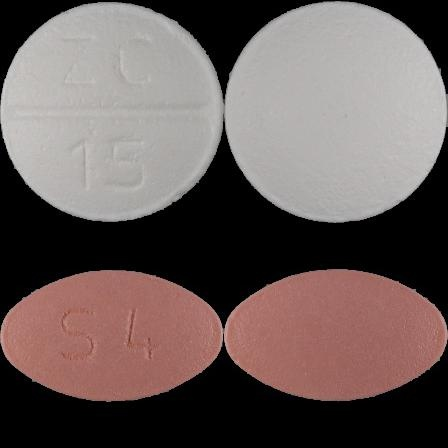63187-190: (0, 0, 224, 224)
